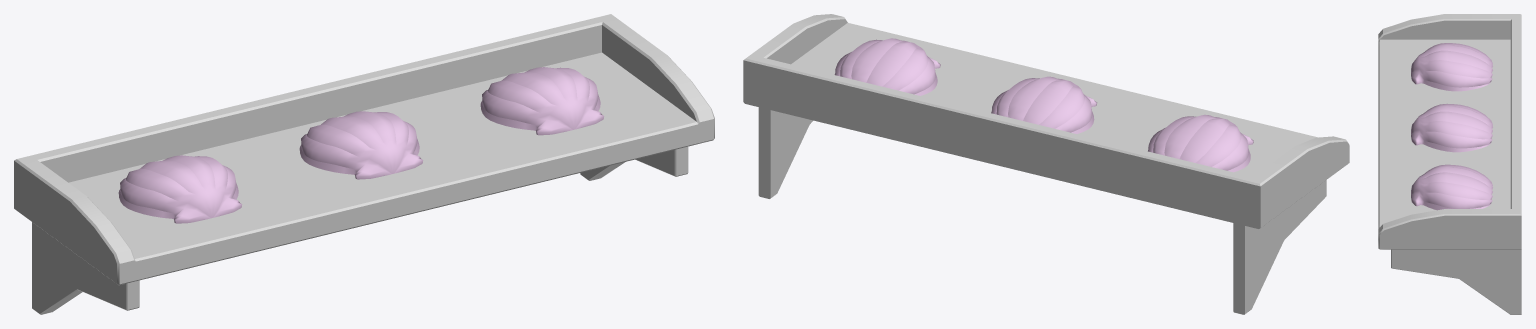
The model's file is The_Three_Seashells_new.fbx.
The picture shows the model from 3 angles, left to right: view 1: azimuth 30°, elevation 25°; view 2: azimuth 150°, elevation 25°; view 3: azimuth 270°, elevation 25°; orthographic projection. The views are drawn at different scales.
Parts seen in each view (by area): view 1: pCube52; view 2: pCube52; view 3: pCube52.
Boxes of the visible parts, bbox=[...] form: pCube52: bbox=[14, 14, 714, 314]; pCube52: bbox=[743, 14, 1349, 314]; pCube52: bbox=[1378, 14, 1521, 314].
Bounding box in the file's own units: 153 × 39.22 × 46.18.
